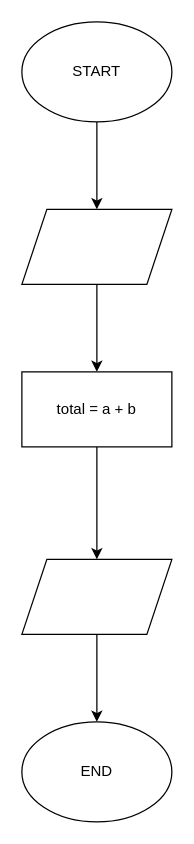
Some shapes in this 194 by 844 pixel diagram are drawn without their labels. Here are the shapes that lost their labels. From the top down, the centre of each, then its label:
point 96,246: Nhập a,b,total
point 96,596: total
